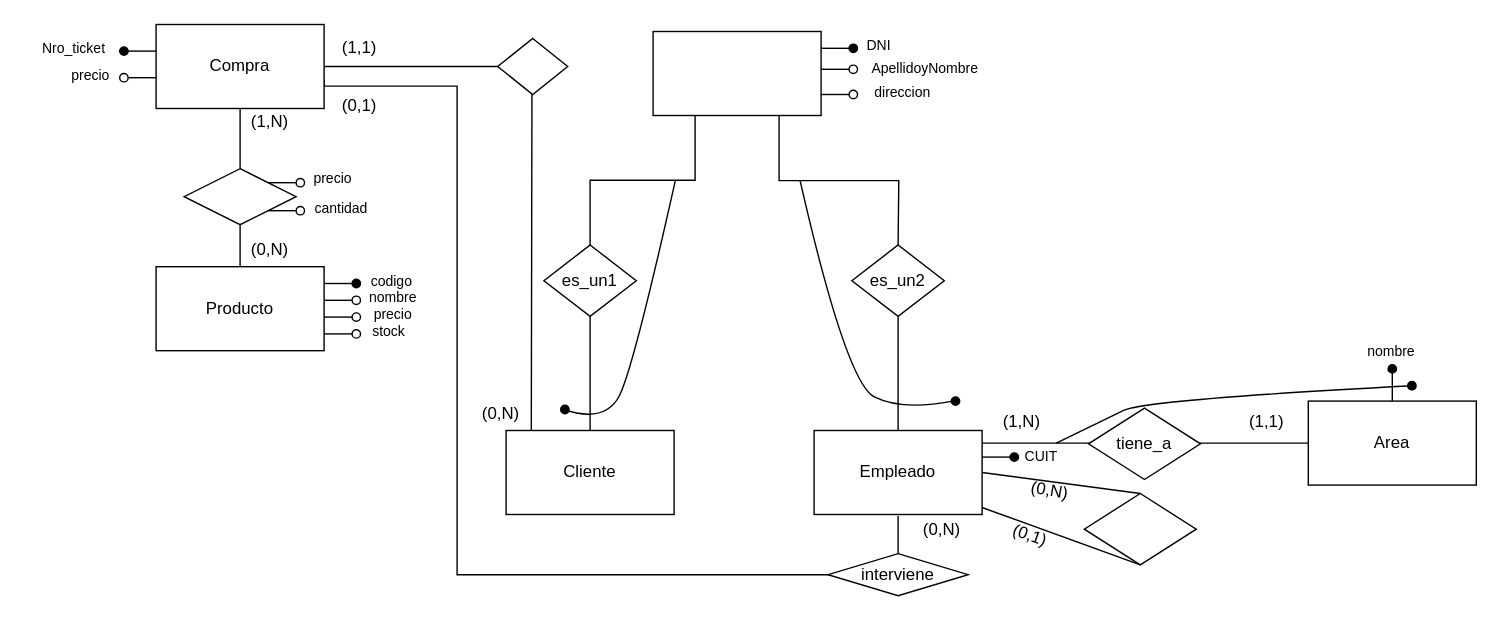
Some shapes in this 1501 by 620 pixel diagram are drawn without their labels. The centre of each missing label's shape, as x and y in pixels:
de: the point at 532,65
Persona: the point at 736,72
supervisa: the point at 1139,528
tiene: the point at 239,196
